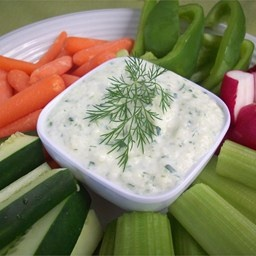background: (0, 0, 102, 102)
